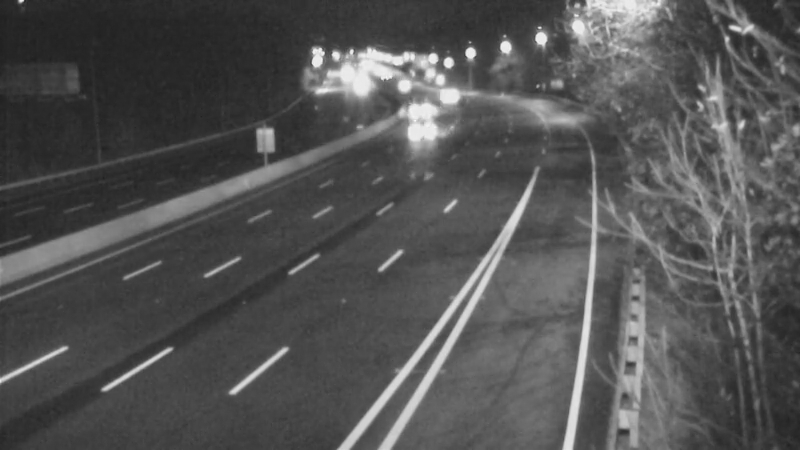vehicle: (377, 62, 427, 112), (418, 68, 468, 118), (393, 82, 443, 132), (393, 108, 443, 158)
